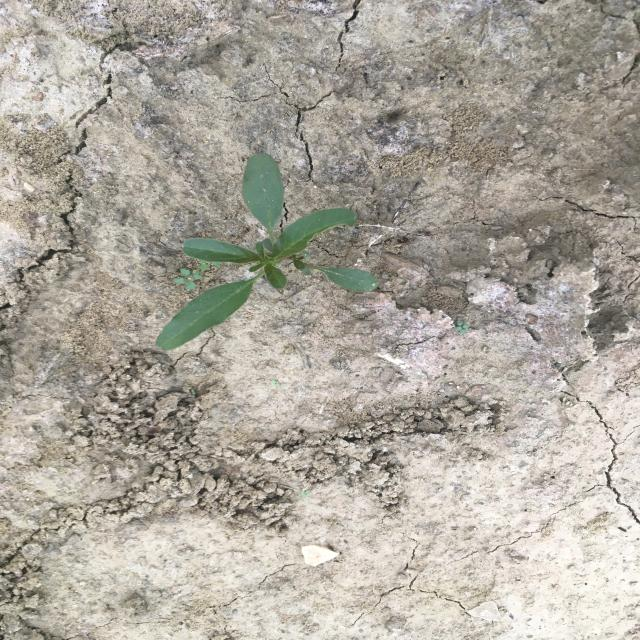Waterhemp: (153, 150, 380, 352)
